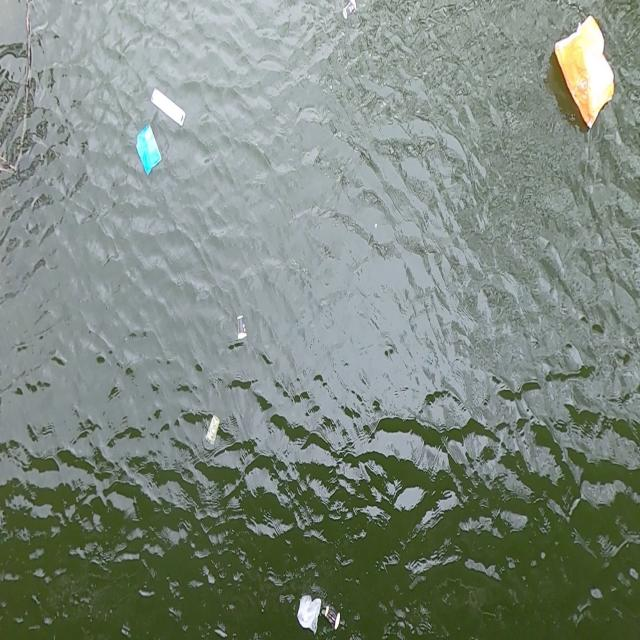Non plastique: (205, 409, 224, 454), (323, 605, 347, 634), (235, 308, 249, 345)
Sac plastique: (546, 8, 621, 141), (296, 591, 322, 635)
